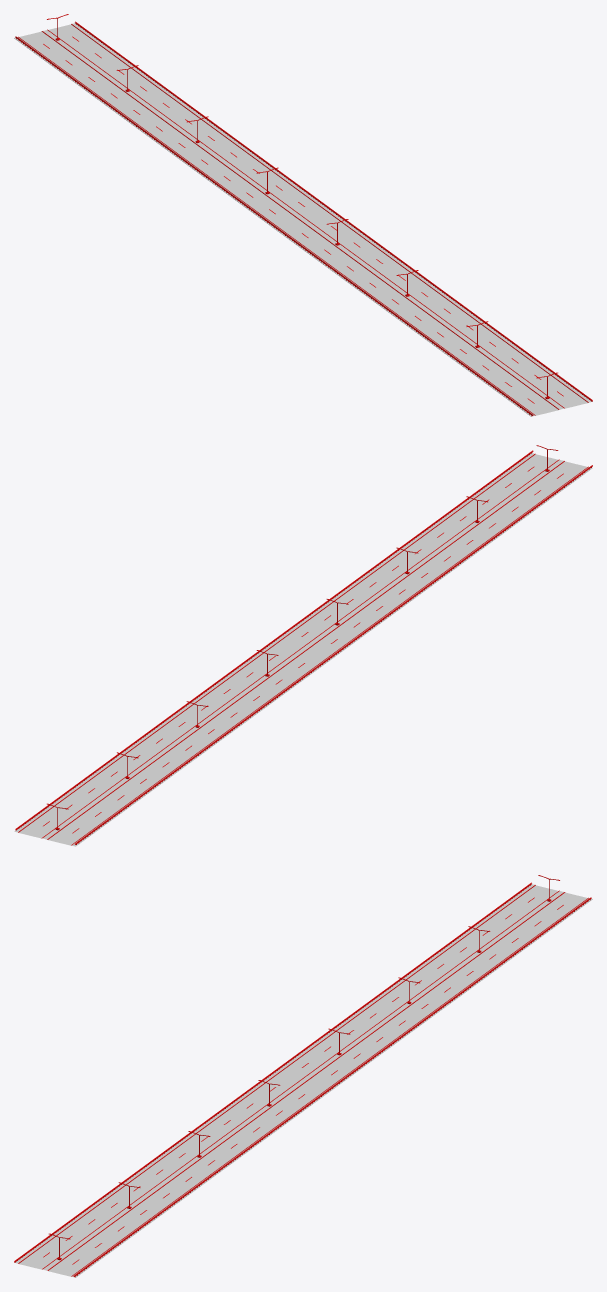
Rendered from road.fbx.
3 renders of one model, top to bottom at view 1: azimuth 30°, elevation 25°; view 2: azimuth 150°, elevation 25°; view 3: azimuth 330°, elevation 25°, orthographic.
Parts seen in each view (by area): view 1: Plane.001, Cube.003; view 2: Plane.001, Cube.003; view 3: Plane.001, Cube.003.
Part boxes in pixels (<box>): Plane.001: <box>14,23,592,416</box>; Cube.003: <box>15,21,592,416</box>; Plane.001: <box>14,453,592,846</box>; Cube.003: <box>15,450,592,844</box>; Plane.001: <box>14,884,592,1277</box>; Cube.003: <box>14,882,591,1277</box>.
Size of the model in its own units: 4599 by 1778 by 67090.
